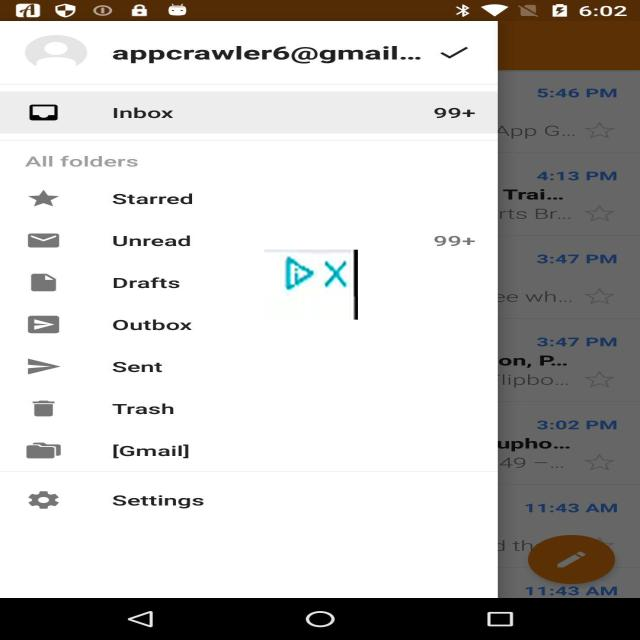sneaking: (264, 250, 358, 320)
